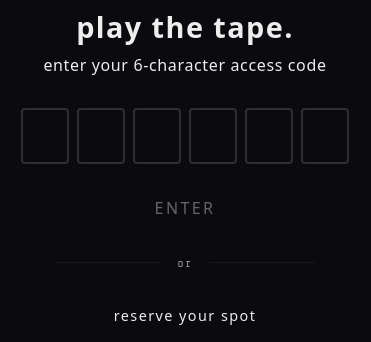
Scenario: AccessCodeEntry › submit button is enabled when code length is 6
Type "A" into the field named "Character 1" at (45, 136), box [21,108,69,164]
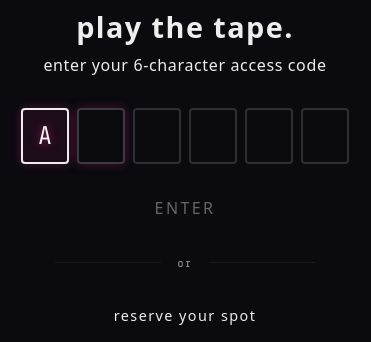
Type "B" into the field named "Character 2" at (101, 136), box [77,108,125,164]
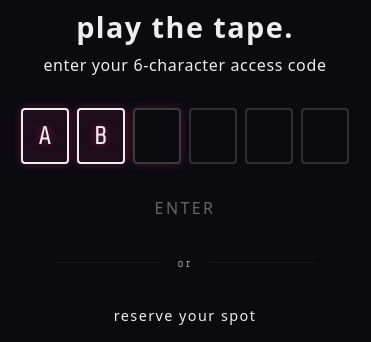
Type "C" into the field named "Character 3" at (157, 136), box [133,108,181,164]
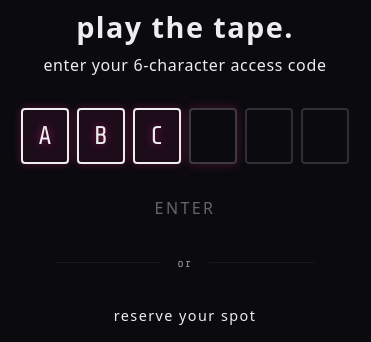
Type "1" into the field named "Character 4" at (213, 136), box [189,108,237,164]
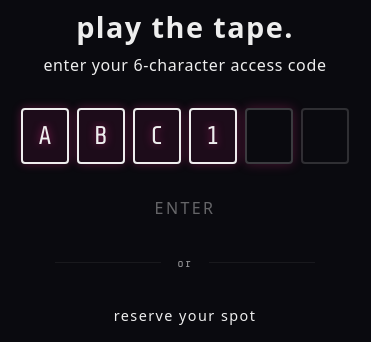
Type "2" into the field named "Character 5" at (269, 136), box [245,108,293,164]
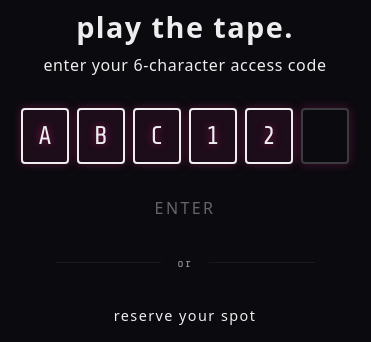
Type "3" into the field named "Character 6" at (325, 136), box [301,108,349,164]
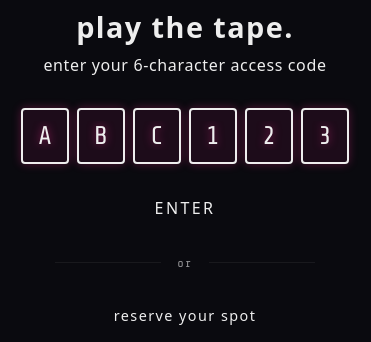
Check: the button "ENTER" is enabled, box [115,184,255,232]
